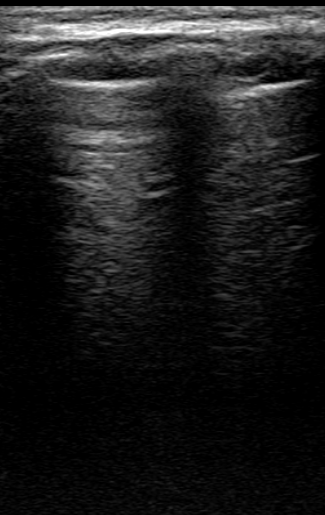irrelevant: (1, 1, 325, 32)
